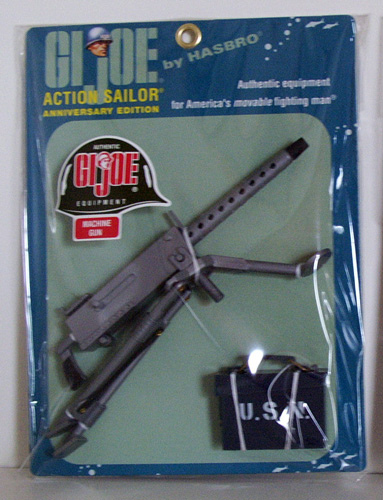rifle: (30, 144, 347, 449)
